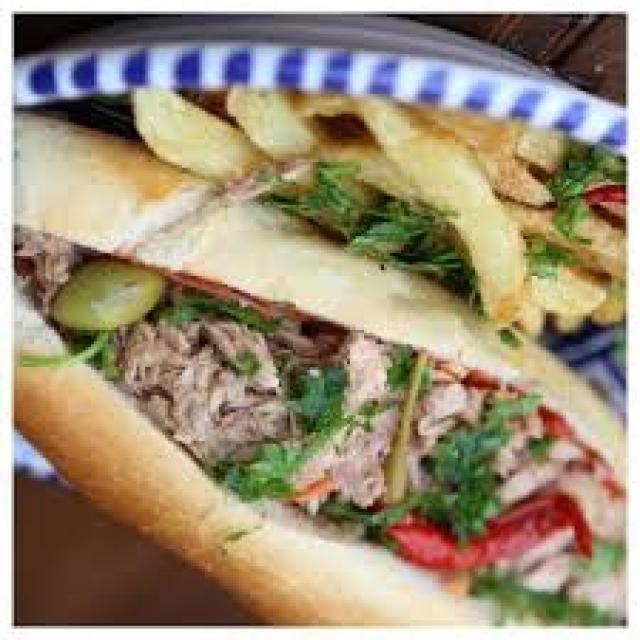Sandwitch tounsi: (22, 235, 583, 624)
